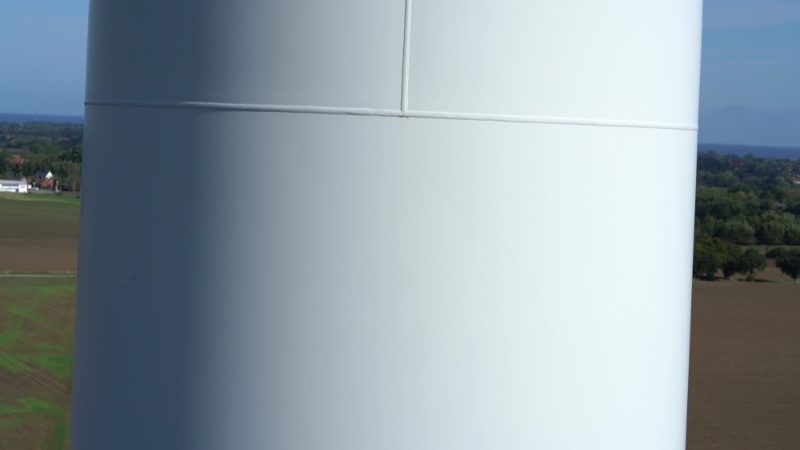weldseam: (78, 90, 703, 136), (386, 1, 416, 125)
